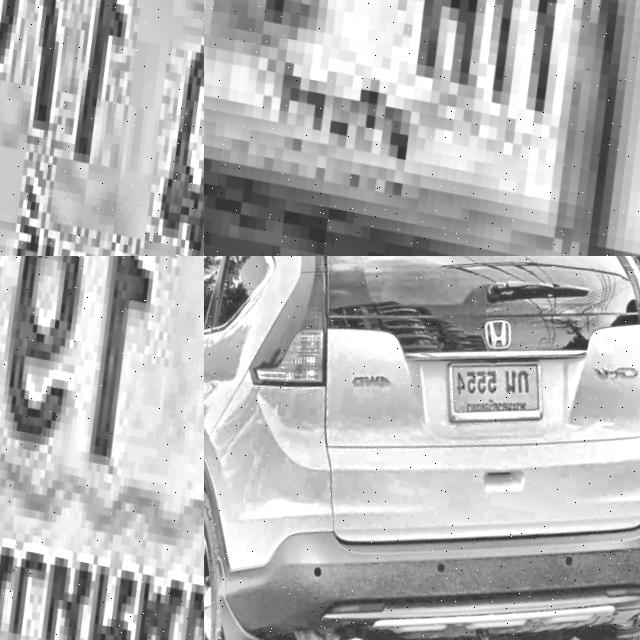license-plate: (204, 0, 640, 256), (0, 256, 204, 640), (0, 0, 204, 256), (436, 332, 549, 435)
